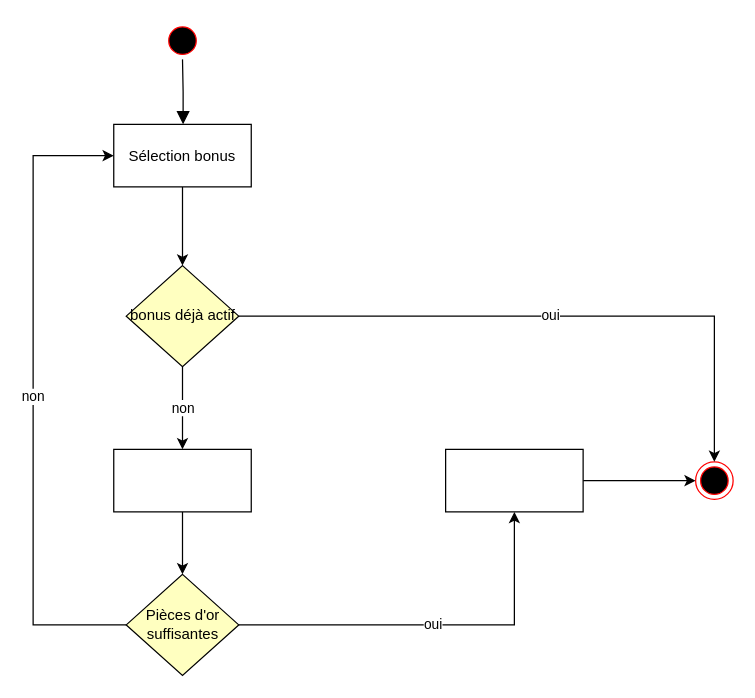
Image size: 755x698. Some labels were removed from this diagram. Here are the shapes that lost their labels. From the top down, the box of each, then its label:
(112, 448, 251, 512): Acheter bonus
(444, 448, 583, 512): Appliquer bonus
